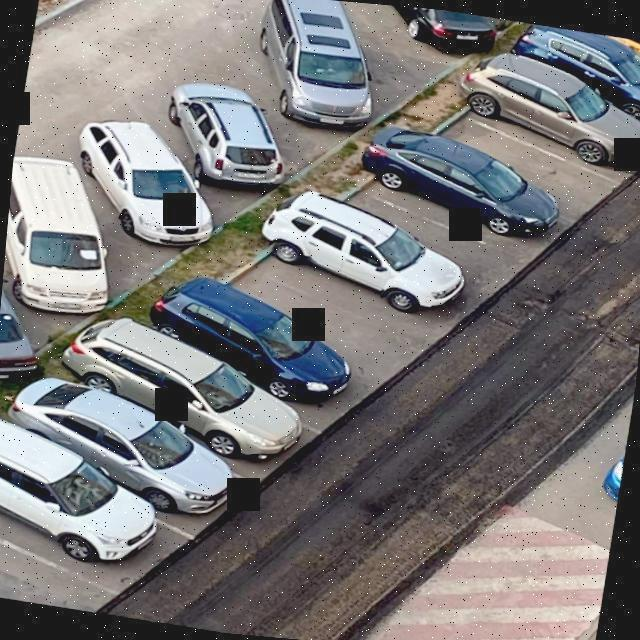space-empty: (183, 251, 443, 394), (301, 182, 529, 307), (423, 108, 627, 228)
space-occupied: (51, 308, 340, 488), (0, 375, 256, 533), (240, 185, 498, 339), (316, 125, 584, 272), (135, 282, 371, 423), (0, 438, 180, 605), (448, 54, 640, 188)
